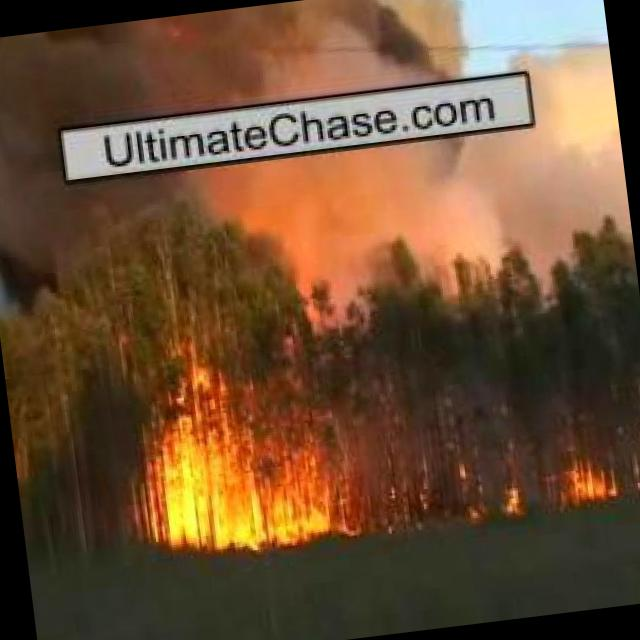Fire: (127, 364, 347, 560), (457, 467, 529, 518), (566, 457, 624, 508)
Smoke: (0, 114, 636, 344), (0, 0, 472, 140)
